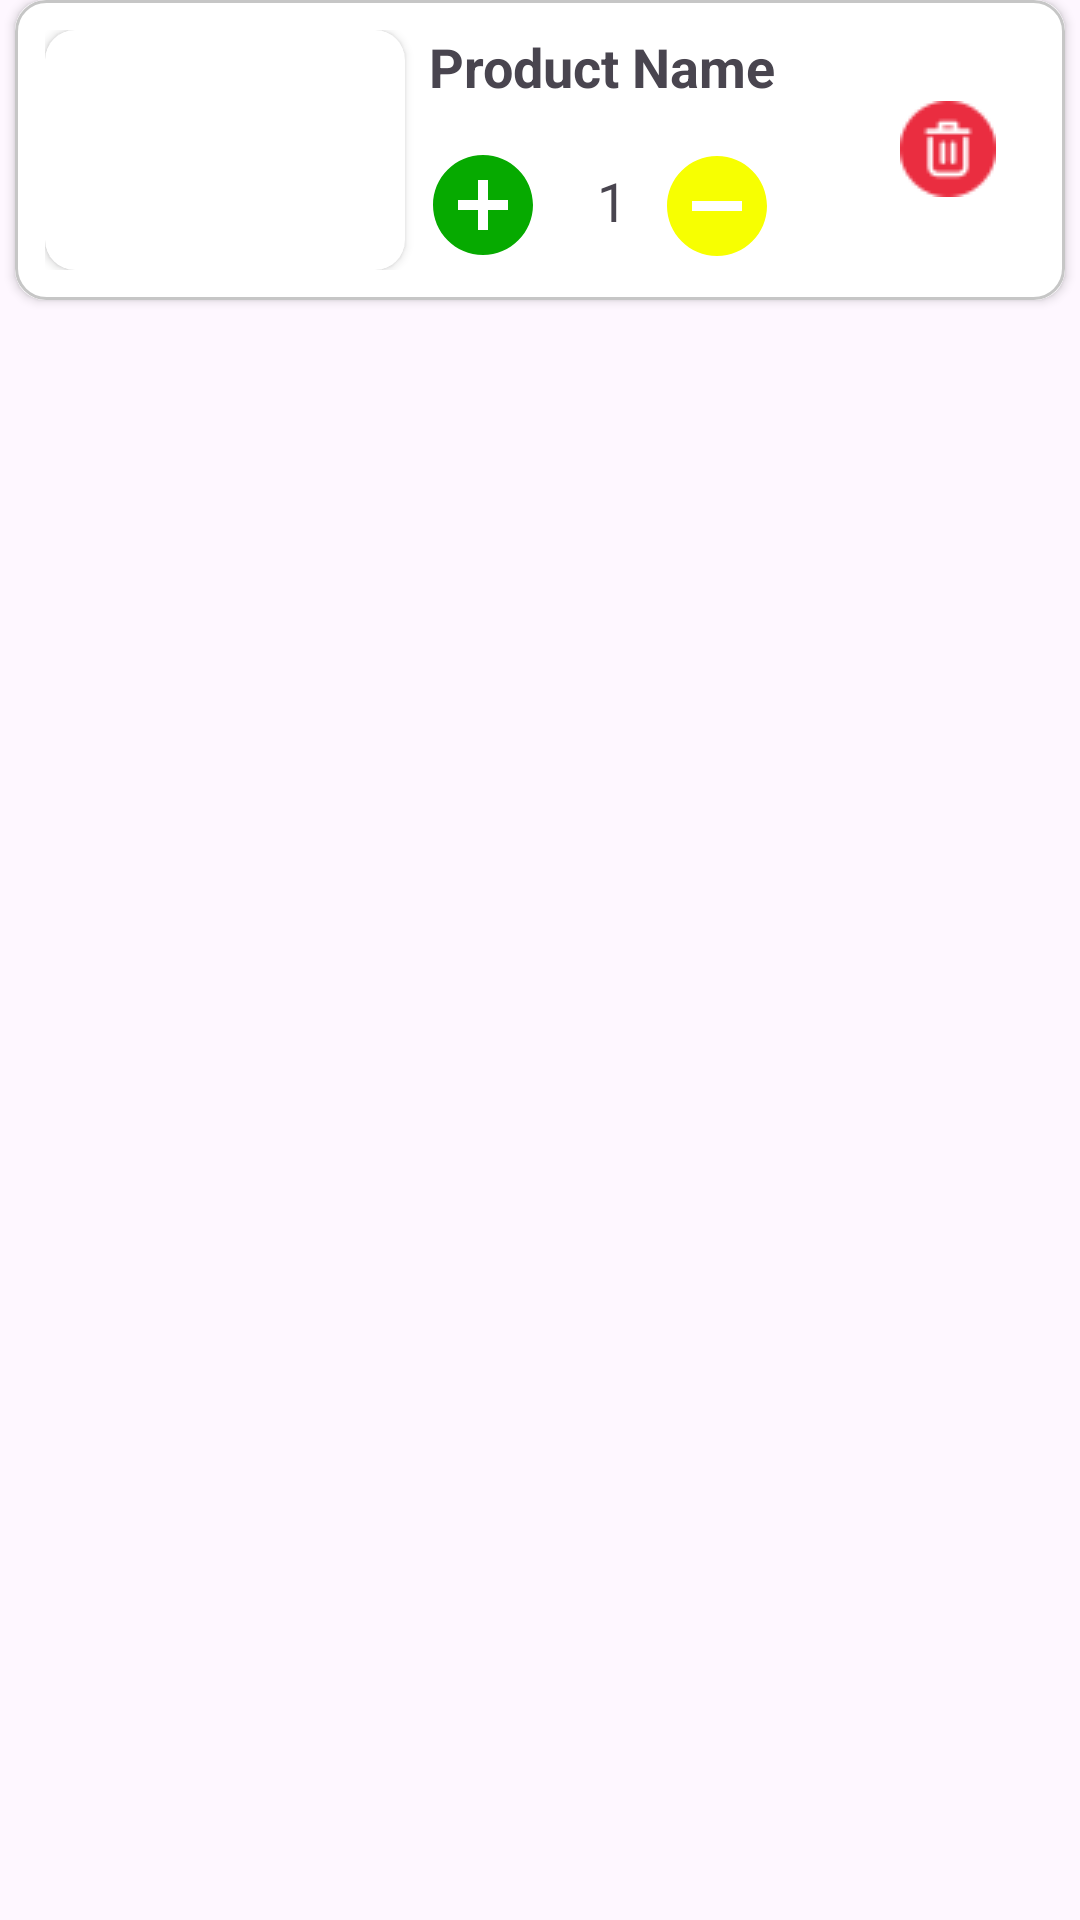

Named icons in this screenshot (1080 × 1920) and their bounding boxes, (x1, y1, x2, y2):
delete: (900, 101, 996, 197)
minus: (667, 156, 767, 256)
plus: (433, 155, 533, 255)
